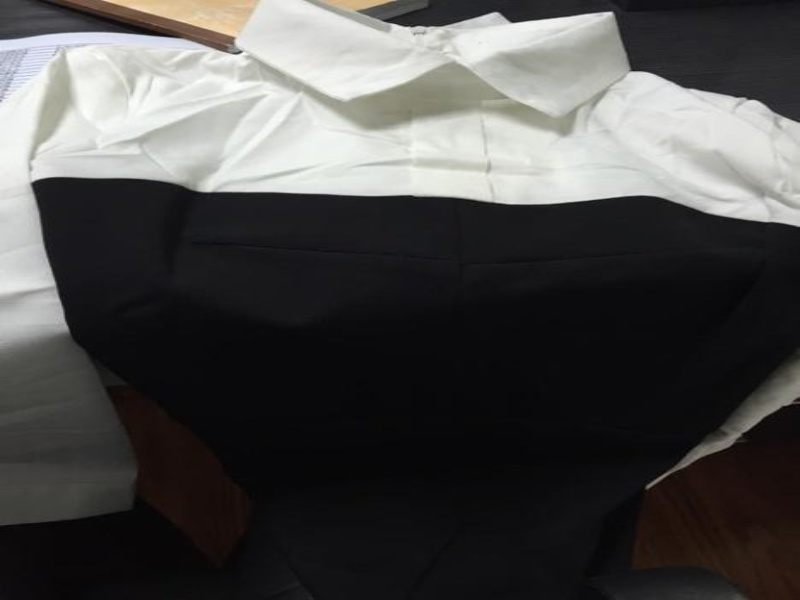long_sleeved_dress: (2, 1, 798, 599)
